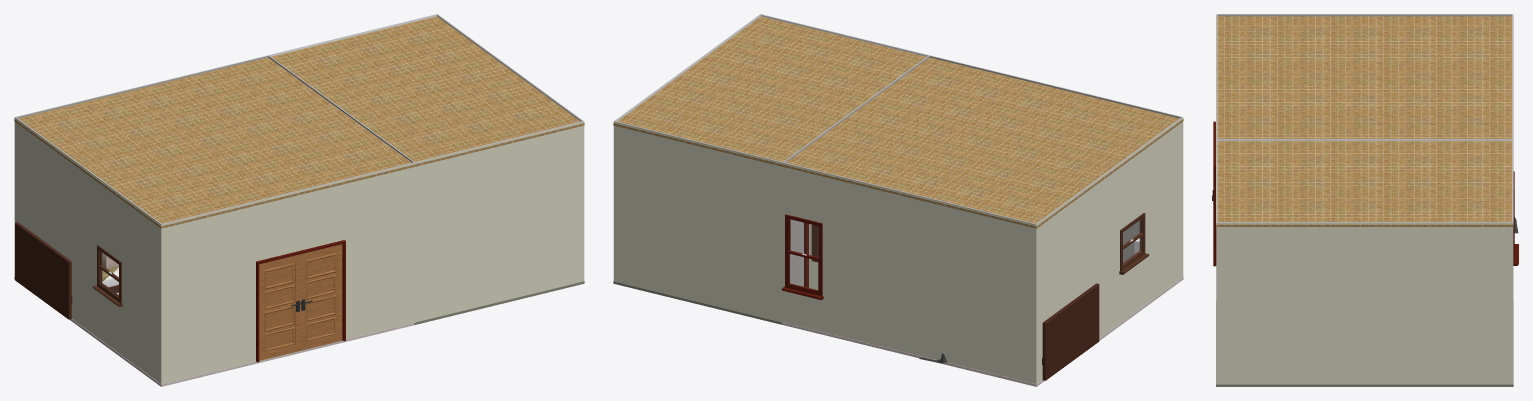
The model's file is ProcTHOR-Train-26.glb.
3 views of the same model, side by side, from view 1: azimuth 30°, elevation 25°; view 2: azimuth 150°, elevation 25°; view 3: azimuth 270°, elevation 25° (orthographic).
Parts seen in each view (by area): view 1: Ceiling#room|2|c, WallInside#wall|exterior|3.71|5.57|9.28|5.57, WallInside#wall|exterior|0.00|5.57|3.71|5.57, Ceiling#room|3|c, WallInside#wall|exterior|9.28|0.00|9.28|5.57, Doorway_Door_7b, Doorway_Door_7a, Bed_30, Doorway_Double_7, Floor#room|2|f, Window_Hung_36x32, WallInside#wall|2|3.71|0.00|9.28|0.00 (+1 smaller); view 2: WallInside#wall|exterior|3.71|0.00|9.28|0.00, Ceiling#room|2|c, WallInside#wall|exterior|0.00|0.00|3.71|0.00, Ceiling#room|3|c, WallInside#wall|exterior|9.28|0.00|9.28|5.57, Bed_30, Window_Hung_32x60, WallInside#wall|2|3.71|0.00|3.71|5.57, Floor#room|2|f, WallInside#wall|2|3.71|5.57|9.28|5.57, Floor#room|3|f, Window_Hung_36x32; view 3: WallInside#wall|exterior|0.00|0.00|0.00|5.57, Ceiling#room|2|c, Ceiling#room|3|c, Floor#room|3|f, WallInside#wall|2|9.28|0.00|9.28|5.57, WallInside#wall|3|3.71|0.00|3.71|5.57, Doorway_Double_7, WallInside#wall|exterior|0.00|0.00|3.71|0.00, WallInside#wall|3|0.00|0.00|0.00|5.57, WallInside#wall|exterior|9.28|0.00|9.28|5.57, Window_Hung_32x60.
Boxes of the visible parts, x1,y1,x2,y2 form: Ceiling#room|2|c: (14, 57, 415, 228); WallInside#wall|exterior|3.71|5.57|9.28|5.57: (161, 162, 415, 383); WallInside#wall|exterior|0.00|5.57|3.71|5.57: (414, 121, 583, 322); Ceiling#room|3|c: (271, 16, 584, 166); WallInside#wall|exterior|9.28|0.00|9.28|5.57: (14, 117, 161, 384); Doorway_Door_7b: (300, 244, 342, 350); Doorway_Door_7a: (259, 254, 300, 360); Bed_30: (15, 222, 118, 319); Doorway_Double_7: (256, 240, 345, 362); Floor#room|2|f: (14, 277, 415, 386); Window_Hung_36x32: (92, 245, 122, 307); WallInside#wall|2|3.71|0.00|9.28|0.00: (15, 55, 268, 118); WallInside#wall|exterior|3.71|0.00|9.28|0.00: (782, 162, 1036, 383); Ceiling#room|2|c: (782, 57, 1183, 228); WallInside#wall|exterior|0.00|0.00|3.71|0.00: (614, 121, 783, 322); Ceiling#room|3|c: (613, 16, 926, 166); WallInside#wall|exterior|9.28|0.00|9.28|5.57: (1036, 117, 1183, 384); Bed_30: (919, 283, 1099, 380); Window_Hung_32x60: (781, 214, 823, 300); WallInside#wall|2|3.71|0.00|3.71|5.57: (783, 55, 929, 286); Floor#room|2|f: (782, 277, 1183, 386); WallInside#wall|2|3.71|5.57|9.28|5.57: (929, 55, 1182, 262); Floor#room|3|f: (613, 224, 818, 324); Window_Hung_36x32: (1119, 213, 1149, 274); WallInside#wall|exterior|0.00|0.00|0.00|5.57: (1216, 222, 1512, 384); Ceiling#room|2|c: (1216, 16, 1513, 141); Ceiling#room|3|c: (1216, 141, 1513, 226); Floor#room|3|f: (1216, 300, 1513, 386); WallInside#wall|2|9.28|0.00|9.28|5.57: (1217, 14, 1512, 16); WallInside#wall|3|3.71|0.00|3.71|5.57: (1217, 139, 1511, 140); Doorway_Double_7: (1213, 121, 1216, 266); WallInside#wall|exterior|0.00|0.00|3.71|0.00: (1512, 139, 1513, 383); WallInside#wall|3|0.00|0.00|0.00|5.57: (1217, 222, 1511, 222); WallInside#wall|exterior|9.28|0.00|9.28|5.57: (1217, 14, 1511, 14); Window_Hung_32x60: (1513, 171, 1518, 265).
Bounding box in the file's own units: 9.42 × 3.42 × 5.78.
122 materials, 42 textured.
